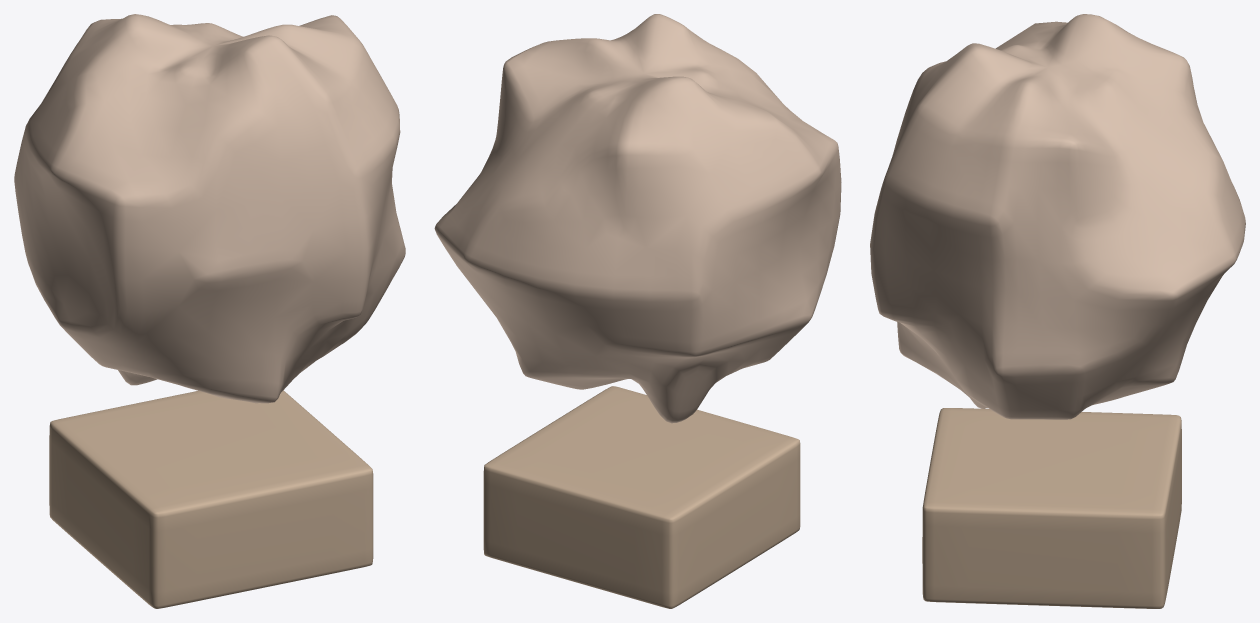
The model's file is PROP_Acorn_v1.glb.
3 views of the same model, side by side, from view 1: azimuth 30°, elevation 25°; view 2: azimuth 150°, elevation 25°; view 3: azimuth 270°, elevation 25° (orthographic). The views are drawn at different scales.
Visible parts, largest first — view 1: PROP_Acorn_v1; view 2: PROP_Acorn_v1; view 3: PROP_Acorn_v1.
Part boxes in pixels (x1=…): PROP_Acorn_v1: x1=14, y1=14, x2=405, y2=608; PROP_Acorn_v1: x1=434, y1=14, x2=841, y2=608; PROP_Acorn_v1: x1=870, y1=14, x2=1245, y2=608.
Size of the model in its own units: 0.3613 by 0.5342 by 0.3507.
